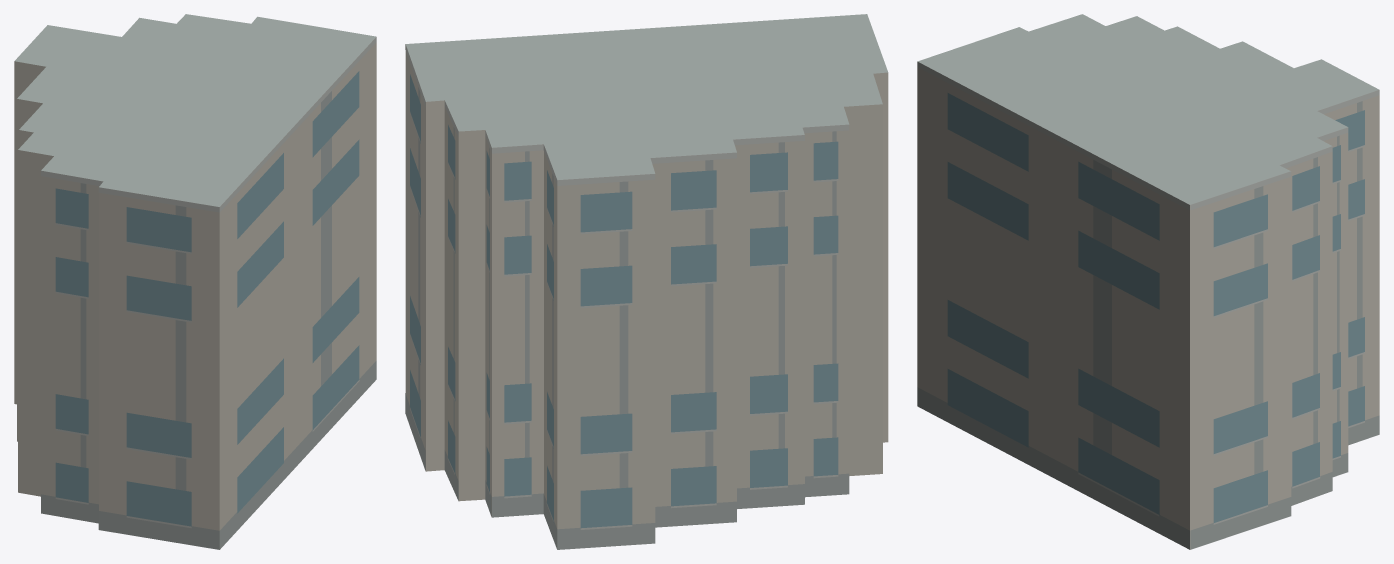
File: survey-upis-32676103.glb
3 views of the same model, side by side, from view 1: azimuth 30°, elevation 25°; view 2: azimuth 150°, elevation 25°; view 3: azimuth 270°, elevation 25° (orthographic). The views are drawn at different scales.
Parts seen in each view (by area): view 1: survey-upis-32676103.tmp; view 2: survey-upis-32676103.tmp; view 3: survey-upis-32676103.tmp.
Part boxes in pixels (x1,y1,x2,y2): survey-upis-32676103.tmp: (14, 14, 376, 549); survey-upis-32676103.tmp: (405, 14, 888, 549); survey-upis-32676103.tmp: (917, 14, 1379, 549).
Bounding box in the file's own units: 18.13 × 15.25 × 18.53.
